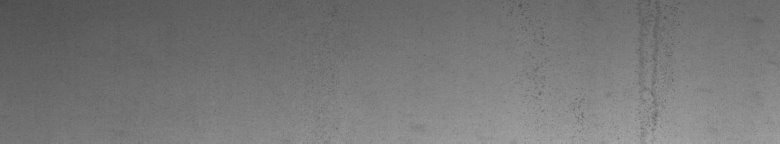ib: (534, 4, 678, 131)
